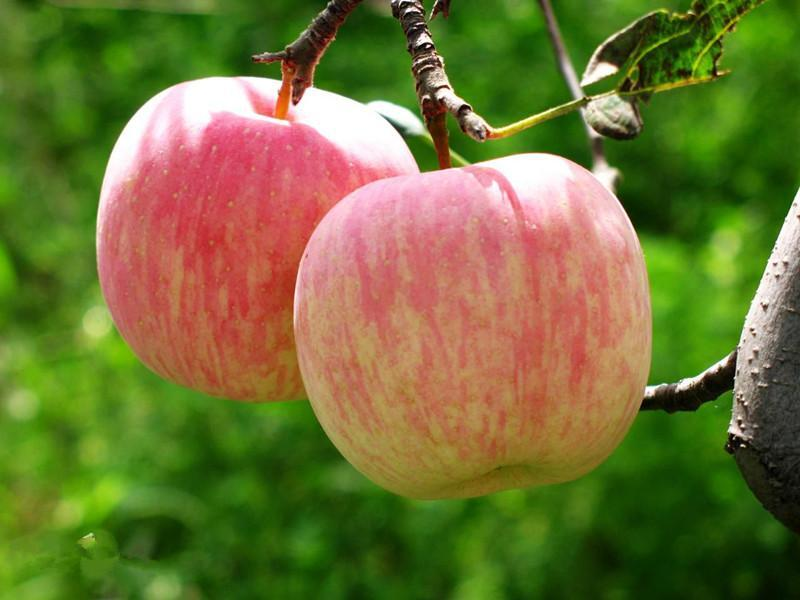apple: (294, 147, 654, 496), (91, 75, 419, 401)
